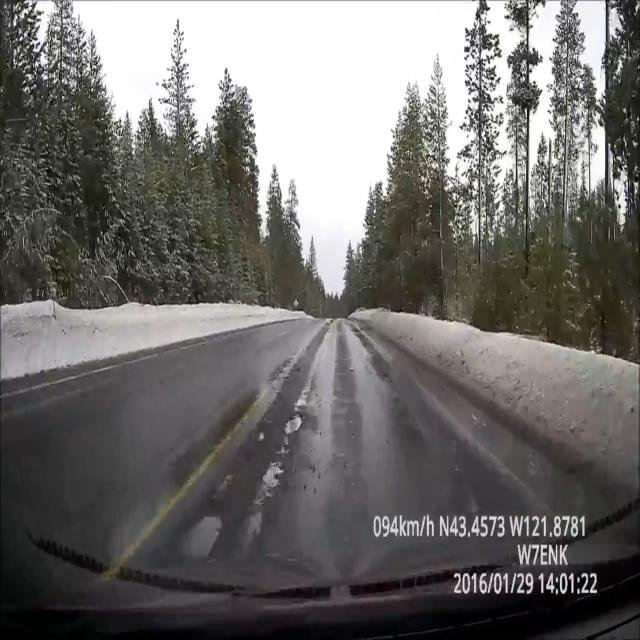Pothole: (277, 400, 307, 439)
